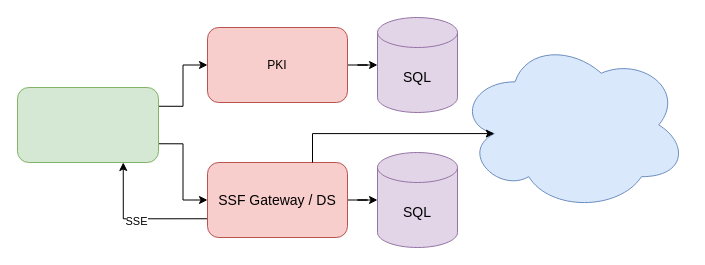
Some shapes in this 705 by 265 pixel diagram are drawn without their labels. Each missing label, with the box of its shape:
cloud storage: (456, 38, 688, 211)
SSF client: (16, 86, 158, 162)
